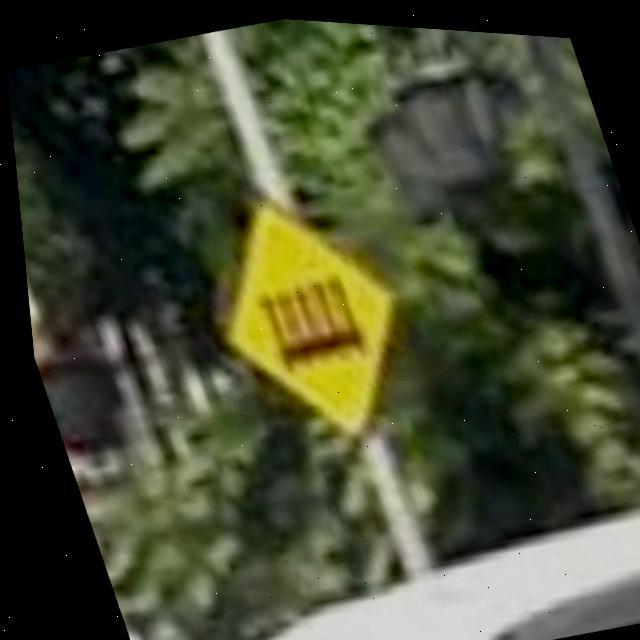Peringatan Perlintasan Kereta Api: (188, 182, 424, 444)
